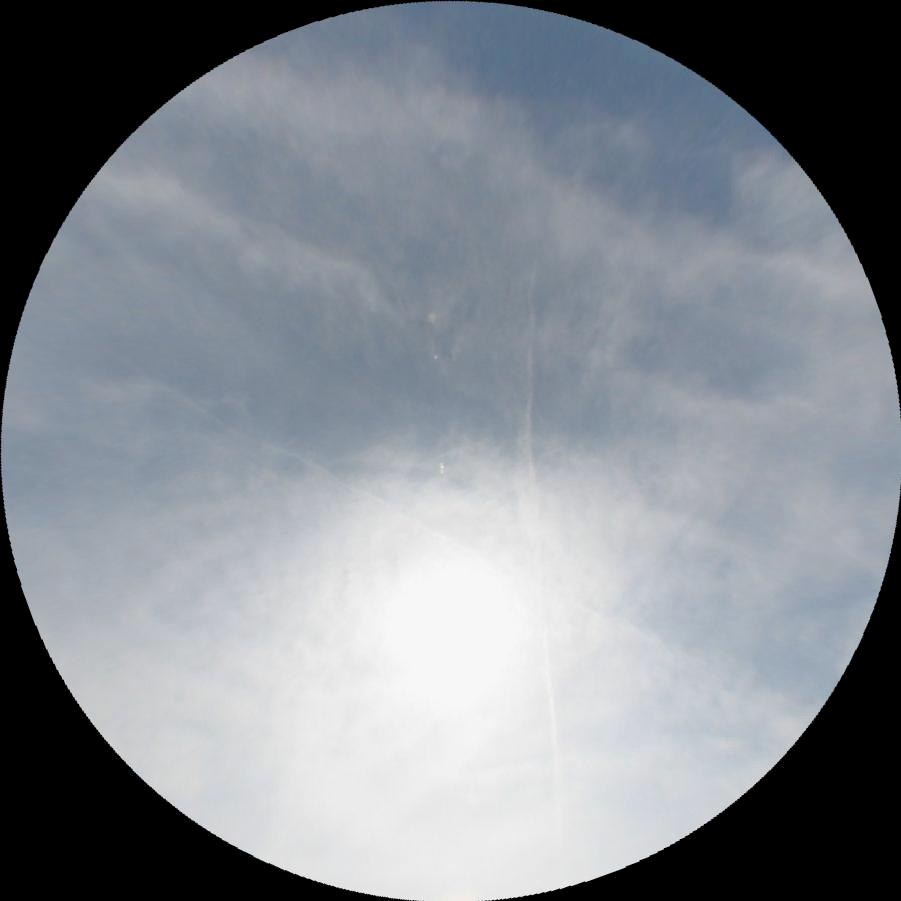contrail veryold: (77, 353, 691, 654), (503, 264, 566, 828)
sun: (352, 534, 542, 727)
